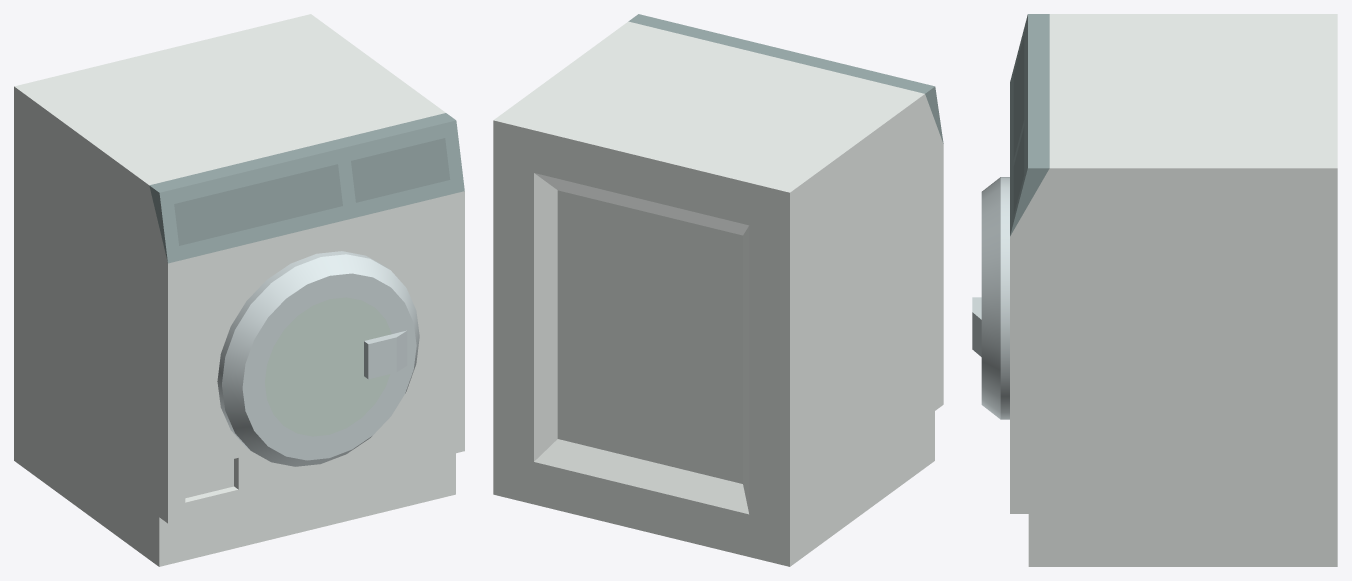
Rendered from washer.glb.
The picture shows the model from 3 angles, left to right: view 1: azimuth 30°, elevation 25°; view 2: azimuth 150°, elevation 25°; view 3: azimuth 270°, elevation 25°; orthographic projection. The views are drawn at different scales.
Visible parts, largest first — view 1: washer(Clone), washerDoor; view 2: washer(Clone); view 3: washer(Clone), washerDoor.
Part boxes in pixels (x1=…): washer(Clone): x1=14, y1=14, x2=464, y2=566; washerDoor: x1=217, y1=251, x2=419, y2=466; washer(Clone): x1=493, y1=14, x2=943, y2=566; washer(Clone): x1=1010, y1=14, x2=1337, y2=566; washerDoor: x1=972, y1=177, x2=1009, y2=419.
Bounding box in the file's own units: 0.7917 × 0.9541 × 0.7917.
6 materials, 6 textured.
